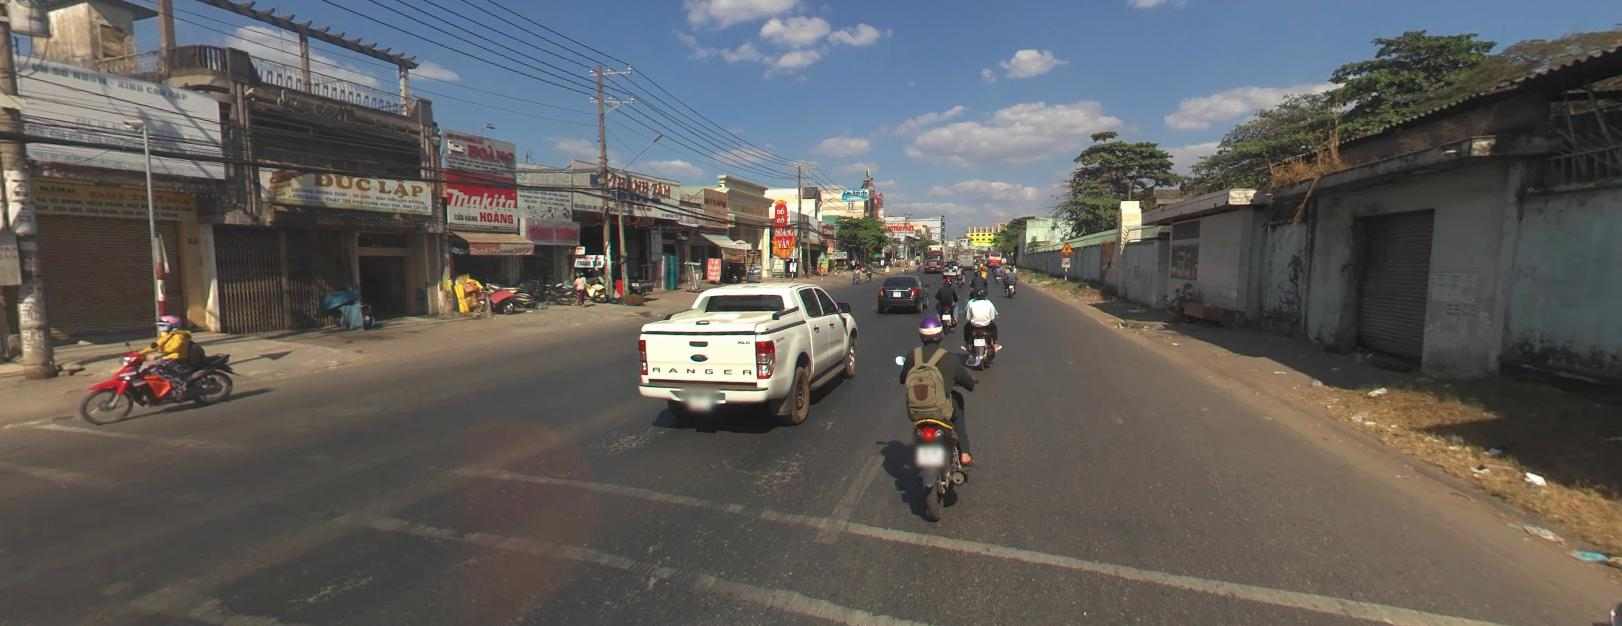Nguy hiem: (1060, 240, 1072, 250)
